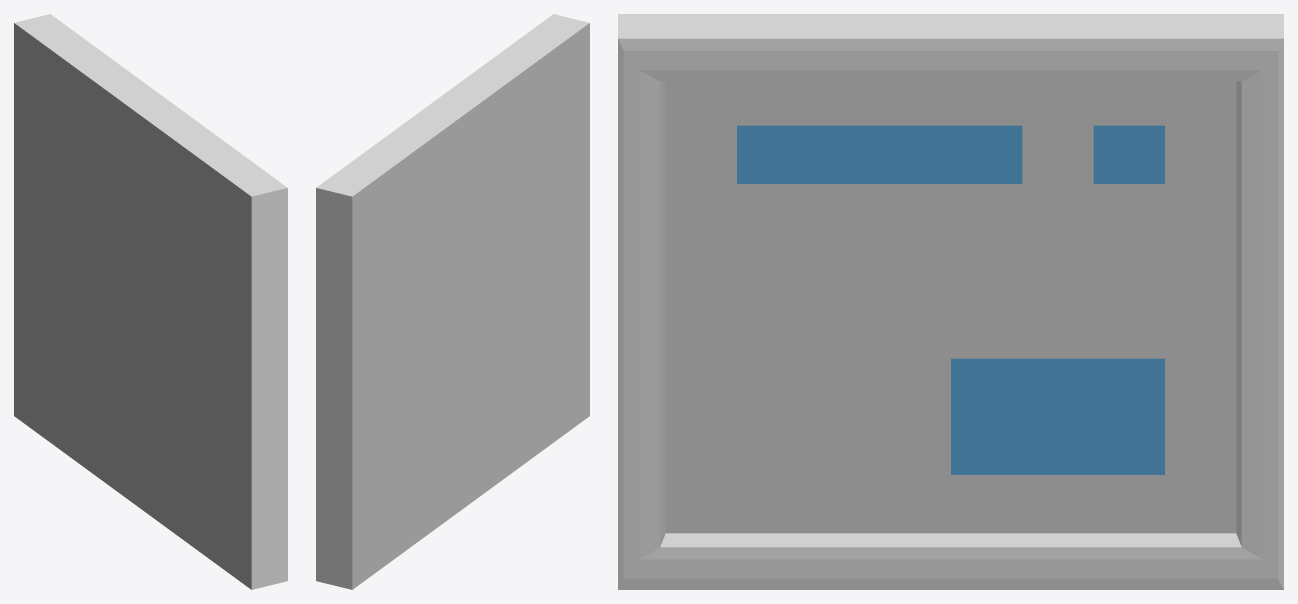
The model's file is board2.fbx.
3 views of the same model, side by side, from view 1: azimuth 30°, elevation 25°; view 2: azimuth 150°, elevation 25°; view 3: azimuth 270°, elevation 25° (orthographic). The views are drawn at different scales.
Parts seen in each view (by area): view 1: picture2; view 2: picture2; view 3: picture2.
Boxes of the visible parts, x1=… form: picture2: x1=14, y1=14, x2=287, y2=589; picture2: x1=316, y1=14, x2=589, y2=589; picture2: x1=618, y1=14, x2=1283, y2=589.
Bounding box in the file's own units: 3.88 × 39.45 × 43.19.
